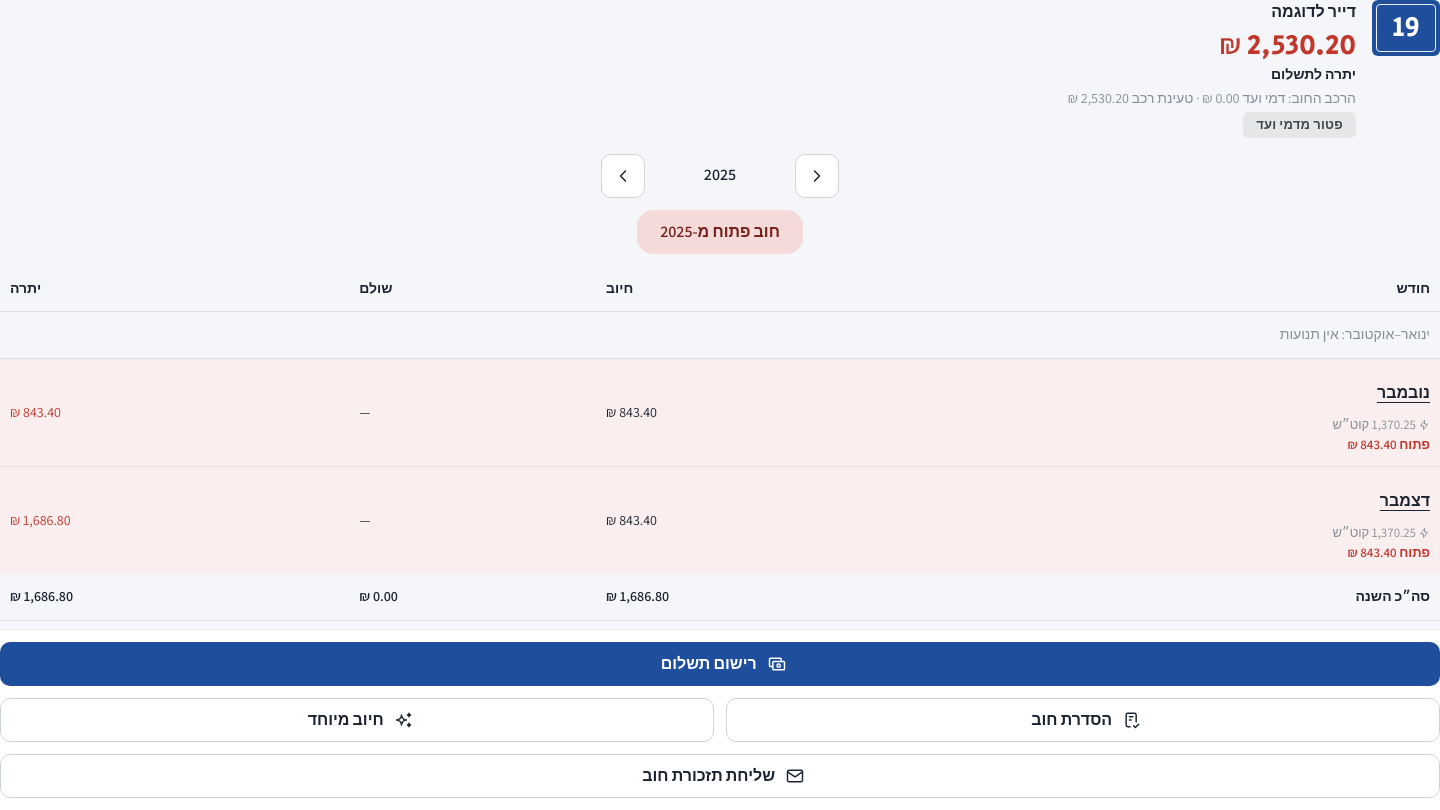
Test: apartment ledger sheet › opens the year of the oldest debt, with the chip, a collapsed quiet stretch, kWh and the open amount
The image size is (1440, 810).
Check: the text "2025" is shown, box [704, 164, 736, 185]
Click the button named "השנה הבאה" at [623, 176], box [601, 154, 645, 198]
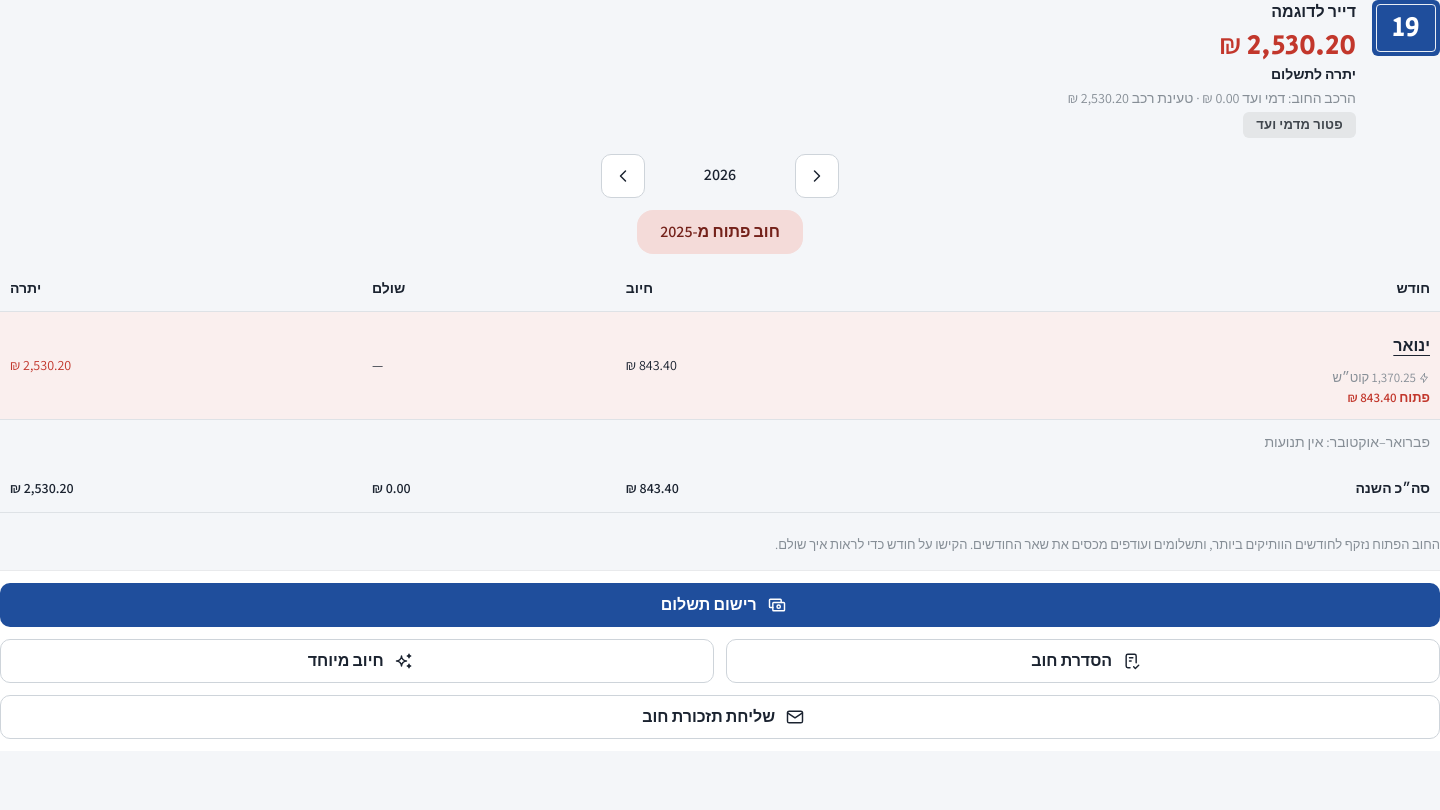
Check: the text "2026" is shown, box [704, 164, 736, 185]
